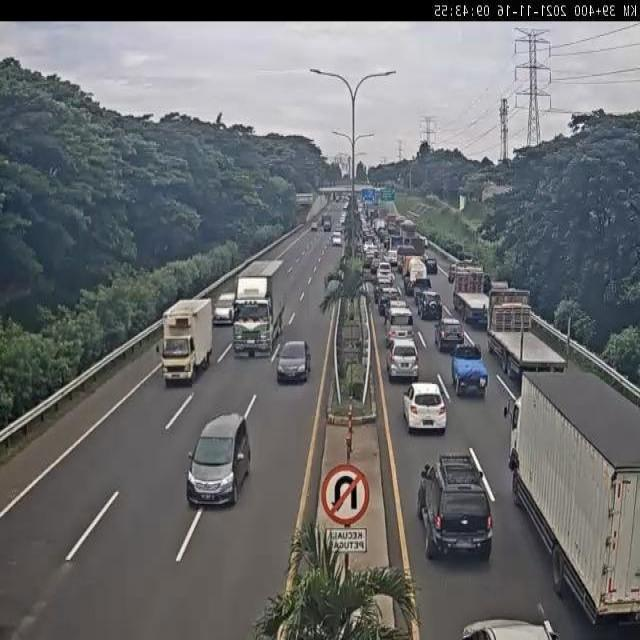Car: (172, 413, 265, 519), (417, 453, 493, 560), (402, 380, 446, 434), (451, 344, 488, 398), (276, 339, 311, 384), (386, 319, 415, 351), (213, 293, 238, 326), (378, 286, 400, 316), (355, 197, 366, 223), (385, 249, 399, 269), (363, 228, 374, 245), (370, 256, 380, 274), (322, 214, 332, 232), (332, 232, 342, 246), (339, 211, 347, 228), (311, 220, 318, 231), (343, 201, 349, 211)
Truck: (509, 365, 639, 626), (228, 258, 285, 351), (160, 298, 213, 385), (450, 265, 484, 315), (490, 287, 530, 327), (403, 257, 428, 295), (401, 220, 417, 239), (387, 228, 401, 248), (376, 224, 386, 242), (354, 241, 364, 258), (366, 207, 376, 223), (350, 192, 359, 205)
